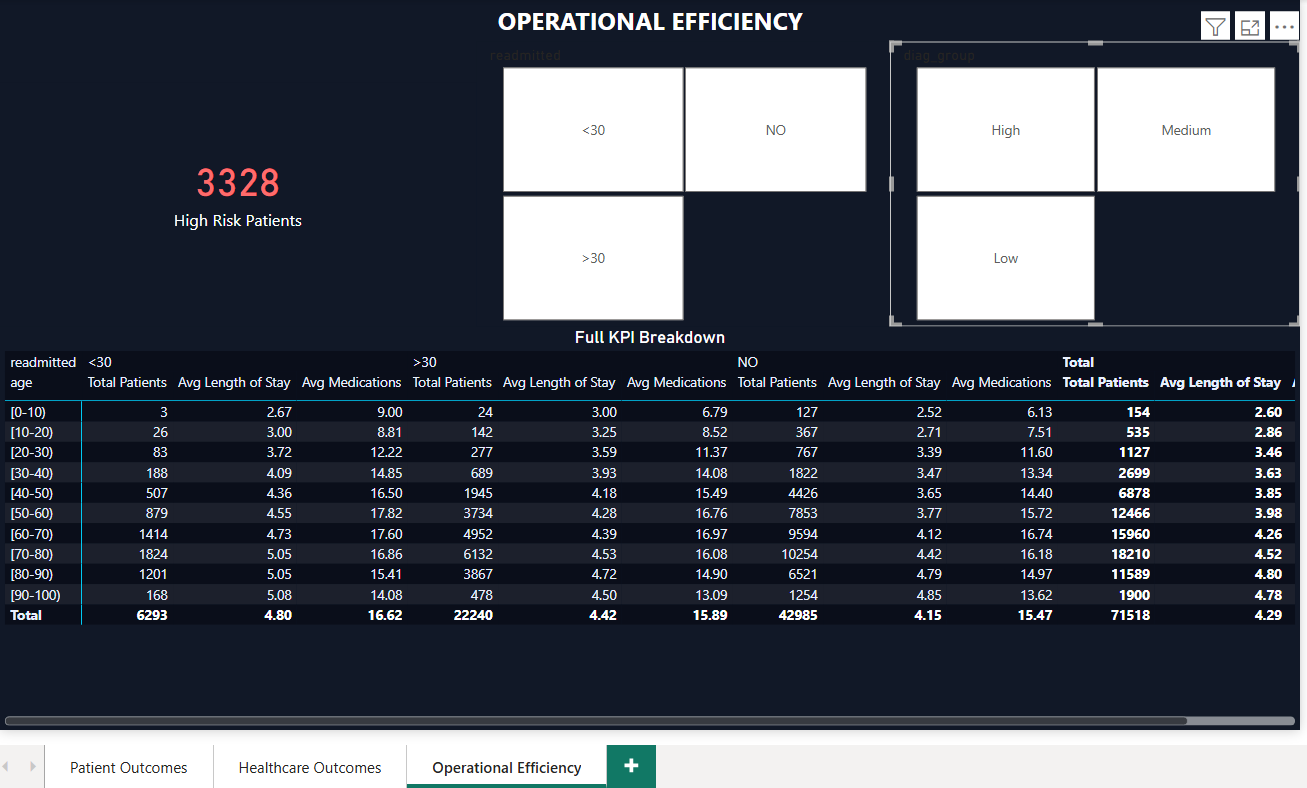

Layout of this report page (visuals, bound fields, positions):
{"tool":"powerbi","page":{"name":"Operational Efficiency","canvas":[1280,720],"ordinal":2},"visuals":[{"type":"card","fields":{"Values":["diabetic_cleaned.High Risk Patients"]},"box":[0,41.7,468.9,290.8],"z":0},{"type":"textbox","box":[0,0,1280.5,82.7],"z":1000},{"type":"slicer","fields":{"Values":["diabetic_cleaned.readmitted"]},"box":[468.9,41.7,407.7,281],"z":2000},{"type":"slicer","fields":{"Values":["diabetic_cleaned.diag_group"]},"box":[876.5,41.7,403.5,281],"z":3000},{"type":"pivotTable","title":"Full KPI Breakdown","fields":{"Rows":["diabetic_cleaned.age"],"Columns":["diabetic_cleaned.readmitted"],"Values":["diabetic_cleaned.Total Patients","diabetic_cleaned.Avg Length of Stay","diabetic_cleaned.Avg Medications"]},"box":[0,322.8,1280,397.9],"z":4000}]}

Visuals, with their boxes on the page's 1280x720 design canvas (x1, y1, x2, y2). These are canvas units, not pixel positions in the 1307x788 screenshot, which may show the page scaled, cropped or inside an application window:
card - diabetic_cleaned.High Risk Patients: l=0, t=42, r=469, b=332
textbox: l=0, t=0, r=1280, b=83
slicer - diabetic_cleaned.readmitted: l=469, t=42, r=877, b=323
slicer - diabetic_cleaned.diag_group: l=876, t=42, r=1280, b=323
"Full KPI Breakdown" pivotTable: l=0, t=323, r=1280, b=721
